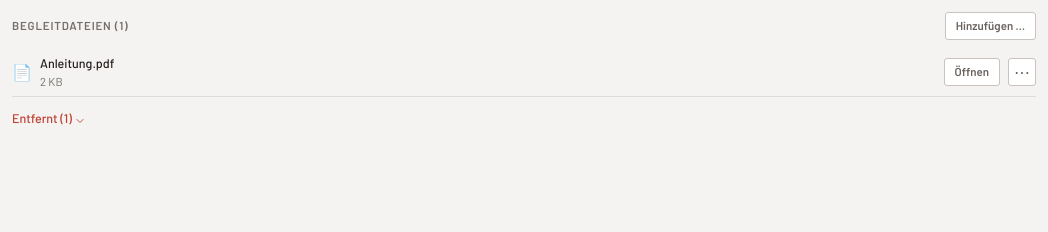
restoring removed companions › restores from the list, reloads, announces it and keeps focus on a live control
Click the button "Entfernt (1)". click: (49, 119)
box: [12, 109, 86, 129]
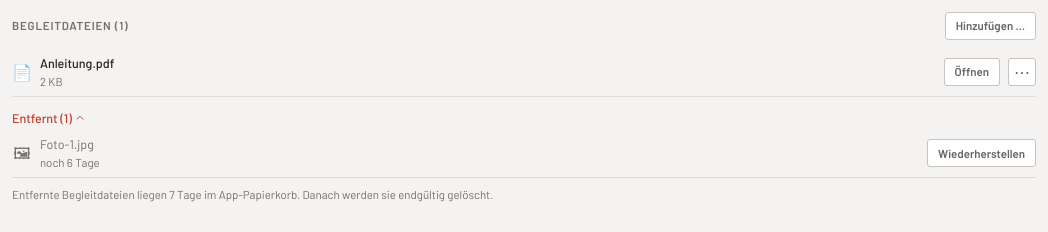
Click the button with aria-label "Foto-1.jpg wiederherstellen". click: (982, 153)
box: [927, 139, 1036, 167]
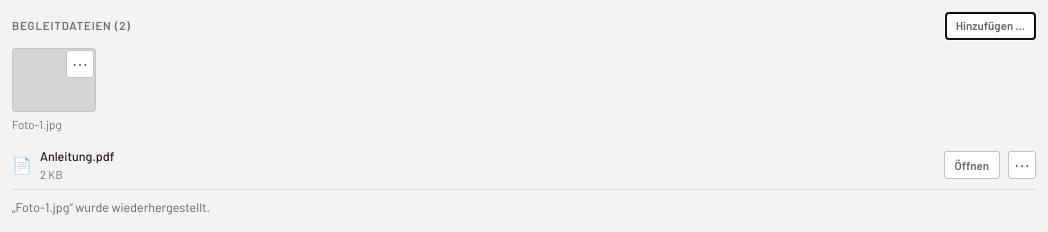
Now the text "„Foto-1.jpg“ wurde wiederhergestellt." is shown, box [12, 199, 210, 215]
Now the heading "Begleitdateien (2)" is shown, box [12, 18, 131, 32]
Now the button "Entfernt" is gone
